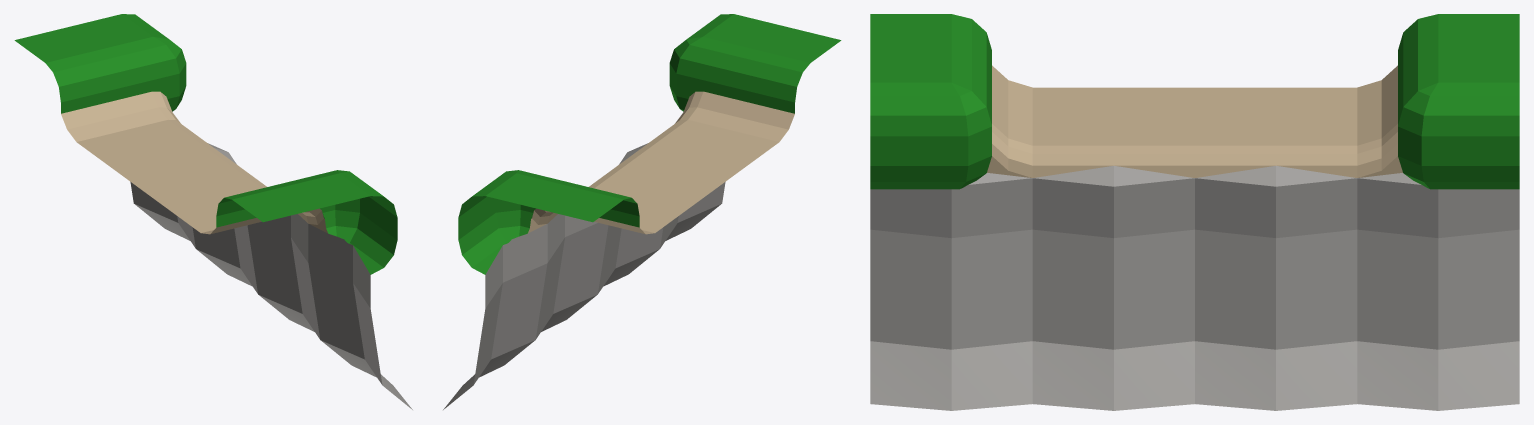
The model's file is Track_Cliff_Edge_Standard_2_Tall_Double.obj.
3 renders of one model, left to right at view 1: azimuth 30°, elevation 25°; view 2: azimuth 150°, elevation 25°; view 3: azimuth 270°, elevation 25°, orthographic. The views are drawn at different scales.
Parts seen in each view (by area): view 1: Grass, Rock, Dirt; view 2: Grass, Rock, Dirt; view 3: Rock, Grass, Dirt.
Boxes of the visible parts, bbox=[...] form: Grass: bbox=[14, 14, 397, 274]; Rock: bbox=[130, 143, 412, 409]; Dirt: bbox=[61, 91, 327, 234]; Grass: bbox=[458, 14, 841, 274]; Rock: bbox=[443, 143, 725, 409]; Dirt: bbox=[528, 91, 794, 234]; Rock: bbox=[870, 165, 1519, 410]; Grass: bbox=[870, 14, 1519, 189]; Dirt: bbox=[987, 65, 1402, 177].
Bounding box in the file's own units: 1.5 × 2 × 4.
